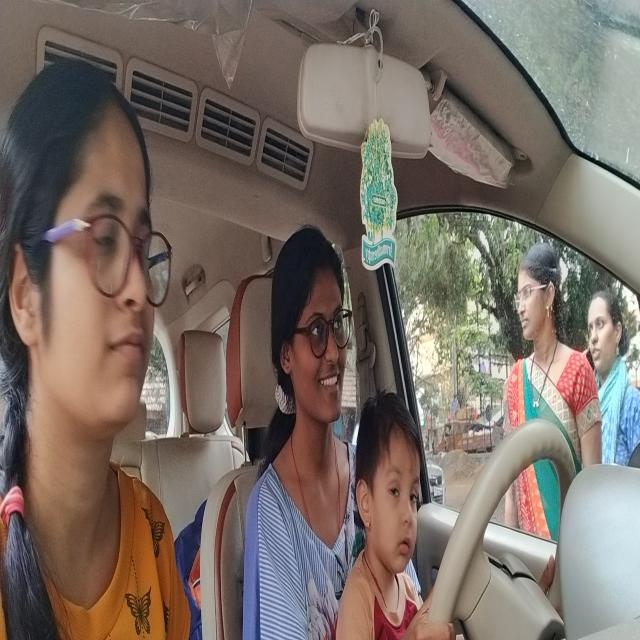child: (352, 383, 429, 590)
person: (0, 46, 176, 443), (266, 216, 354, 435)
